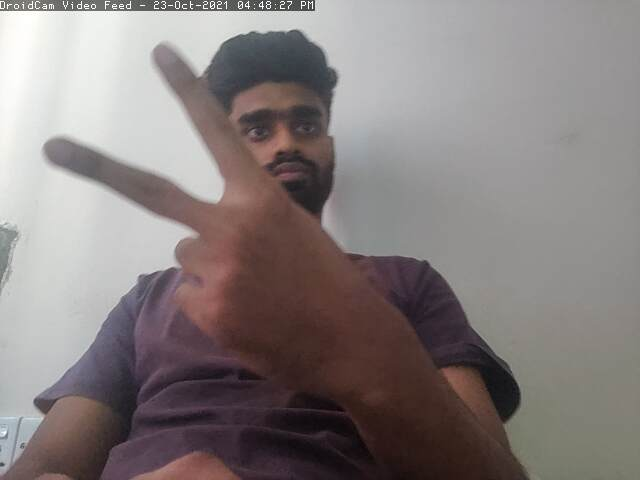Victory: (40, 37, 394, 383)
